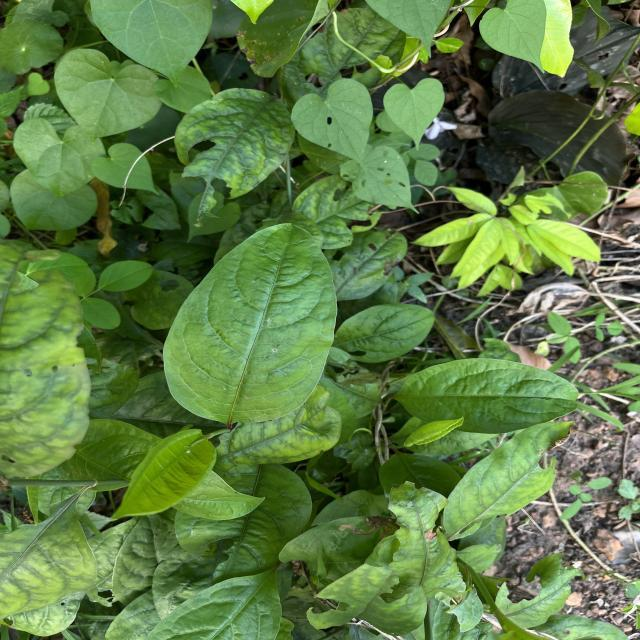Plumbago indica: (160, 216, 340, 429), (384, 354, 580, 436), (100, 427, 224, 528)
